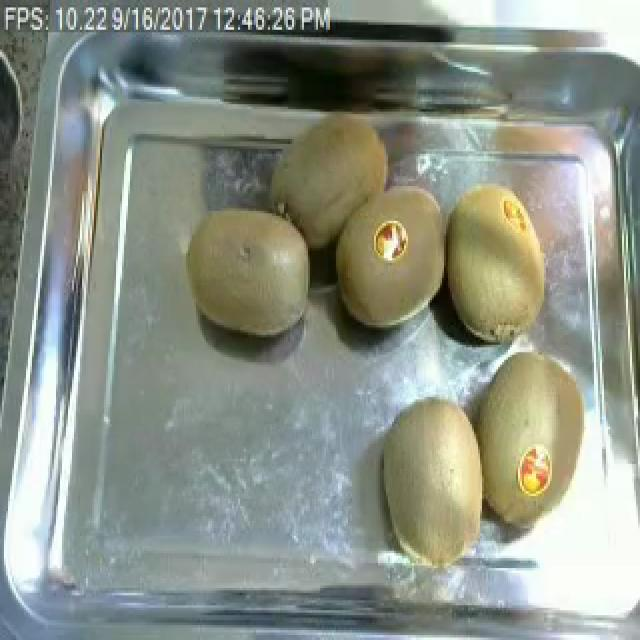Fruit: (252, 99, 398, 258), (368, 390, 486, 580), (176, 196, 320, 347), (440, 173, 558, 354), (478, 340, 604, 508), (324, 174, 446, 337)
